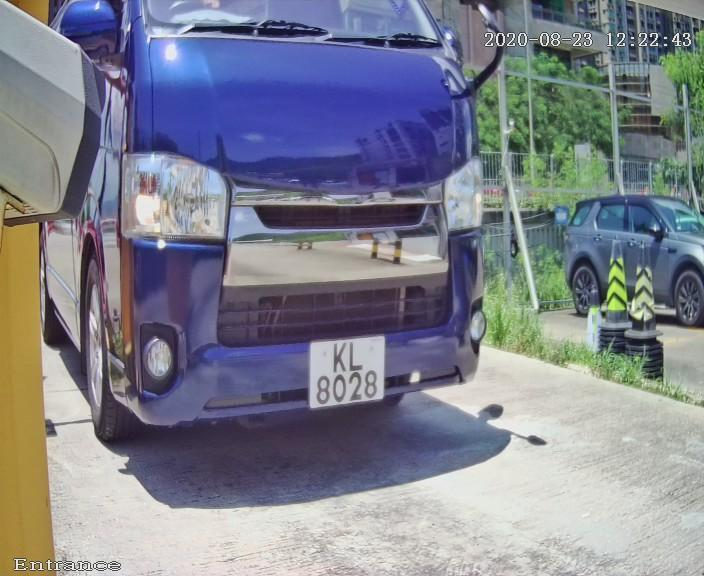Car: (23, 6, 525, 505)
License Plate: (302, 335, 387, 415)
